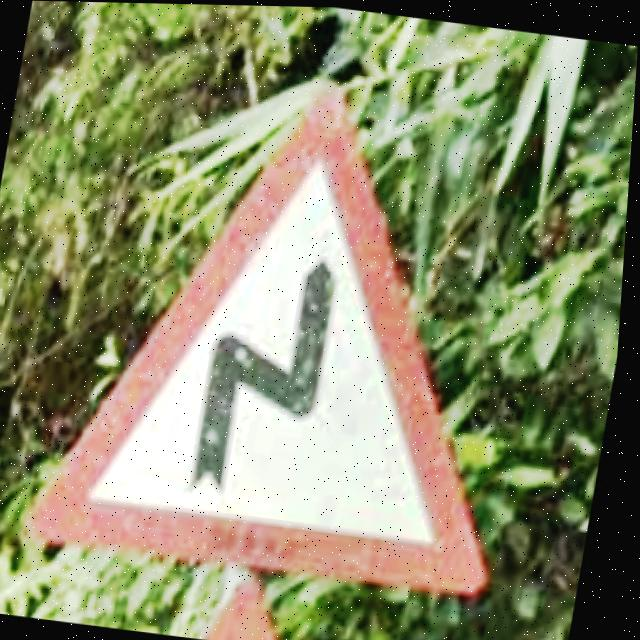doublebendright: (35, 87, 494, 594)
